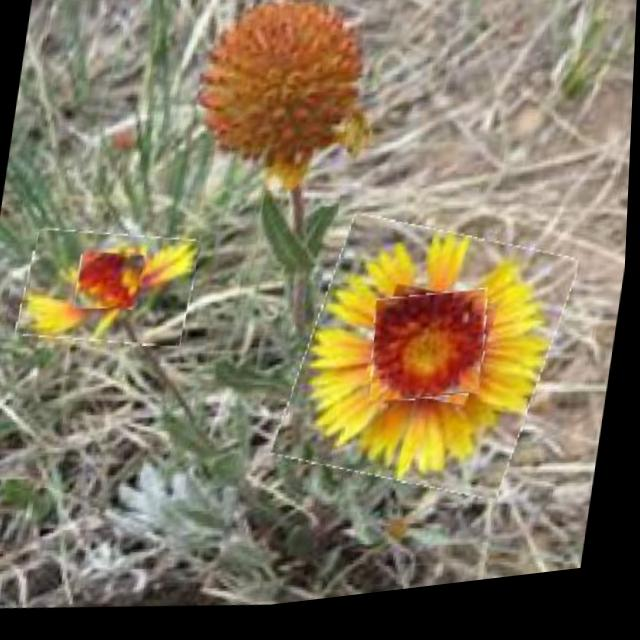Flower: (281, 208, 579, 527), (18, 217, 205, 364), (368, 290, 498, 421), (75, 251, 145, 319)
